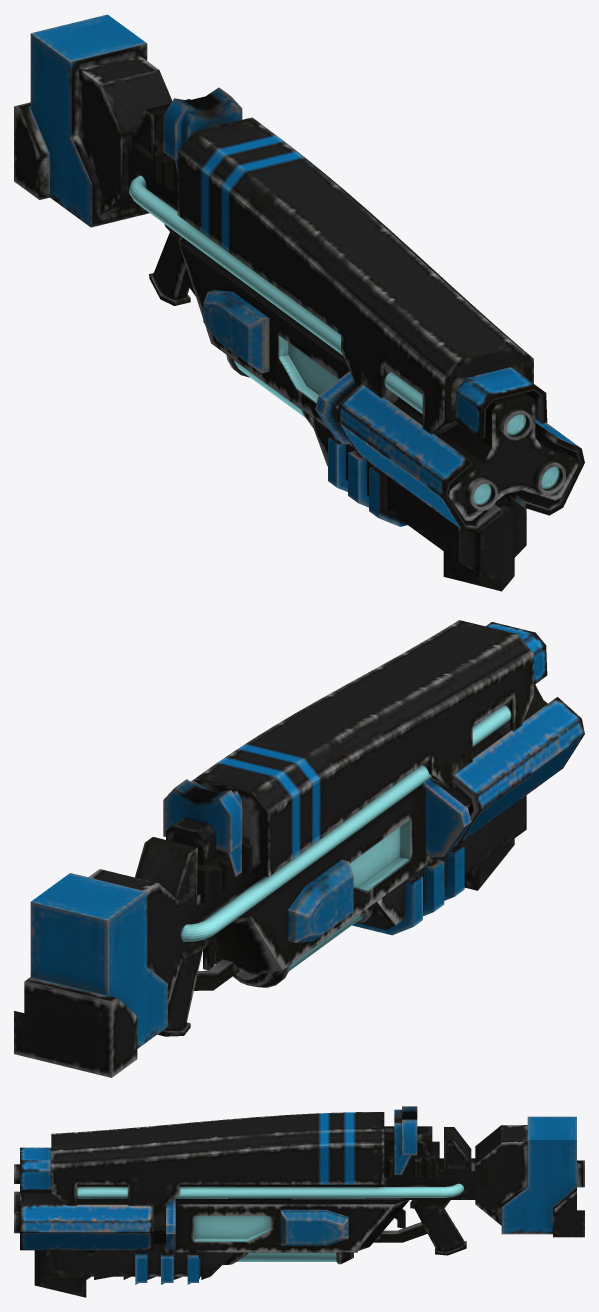
File: shotgun_low.glb
The picture shows the model from 3 angles, top to bottom: view 1: azimuth 30°, elevation 25°; view 2: azimuth 150°, elevation 25°; view 3: azimuth 270°, elevation 25°; orthographic projection. The views are drawn at different scales.
Parts seen in each view (by area): view 1: shotgun_low; view 2: shotgun_low; view 3: shotgun_low.
Part boxes in pixels (x1,y1,x2,y2): shotgun_low: (14,14,584,591); shotgun_low: (14,620,584,1077); shotgun_low: (14,1106,584,1297).
Bounding box in the file's own units: 0.1219 × 0.2239 × 0.6451.
1 material, 1 textured.
